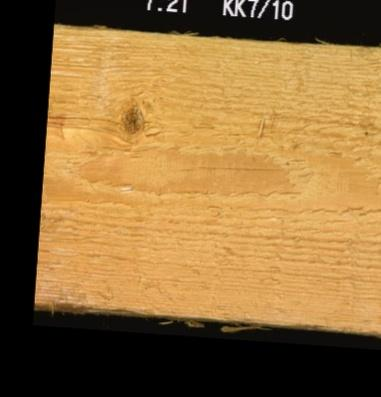sound_knot: (117, 99, 145, 138)
split: (176, 155, 296, 175), (46, 105, 119, 126)
wave: (33, 296, 157, 315)
